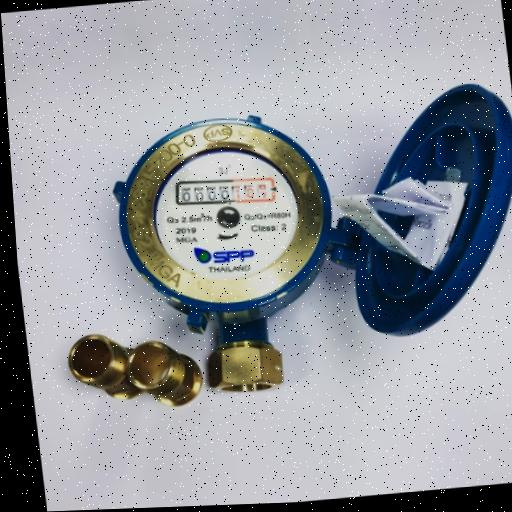0: (219, 185, 232, 203), (193, 186, 205, 203), (206, 185, 218, 202), (180, 187, 192, 203)
1: (231, 185, 243, 201)
6: (256, 184, 269, 201)
8: (243, 184, 255, 200)
border_water_meter_number: (173, 171, 277, 210)
